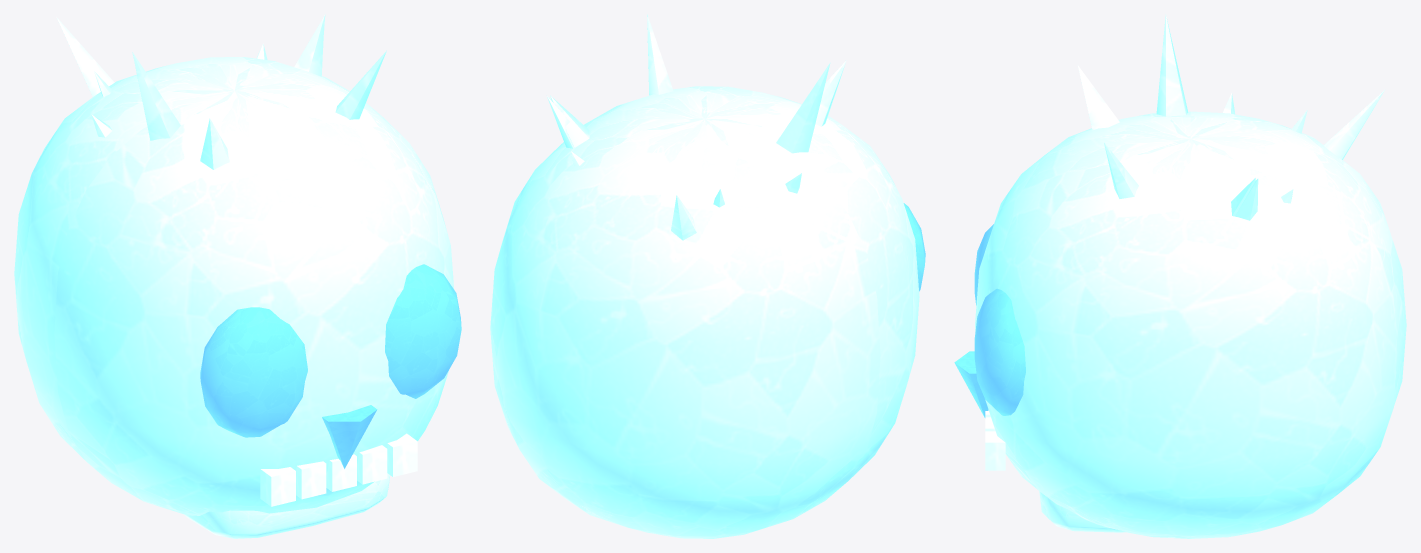
File: ad413953-0b8e-4308-bba2-8e8ff44e4f75.glb
3 views of the same model, side by side, from view 1: azimuth 30°, elevation 25°; view 2: azimuth 150°, elevation 25°; view 3: azimuth 270°, elevation 25° (orthographic). The views are drawn at different scales.
Visible parts, largest first — view 1: Body; view 2: Body; view 3: Body.
Boxes of the visible parts, left/top/right/bottom form: Body: left=14, top=14, right=461, bottom=538; Body: left=490, top=14, right=925, bottom=538; Body: left=954, top=14, right=1406, bottom=538.
Size of the model in its own units: 0.437 by 0.5489 by 0.506.
2 materials, 1 textured.
